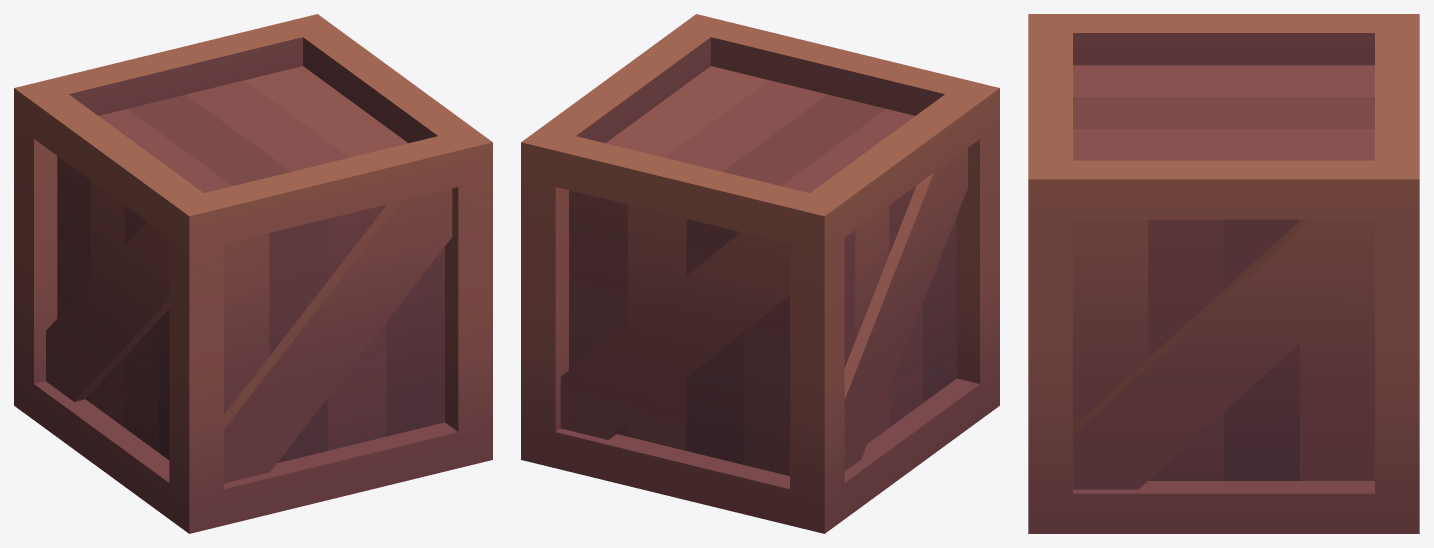
File: p-cajon.glb
3 views of the same model, side by side, from view 1: azimuth 30°, elevation 25°; view 2: azimuth 150°, elevation 25°; view 3: azimuth 270°, elevation 25° (orthographic). The views are drawn at different scales.
Visible parts, largest first — view 1: Crate; view 2: Crate; view 3: Crate.
Boxes of the visible parts, <box> form: Crate: <box>14,14,492,533</box>; Crate: <box>521,14,999,533</box>; Crate: <box>1028,14,1419,533</box>.
Size of the model in its own units: 0.347 by 0.347 by 0.347.
1 material, 1 textured.
